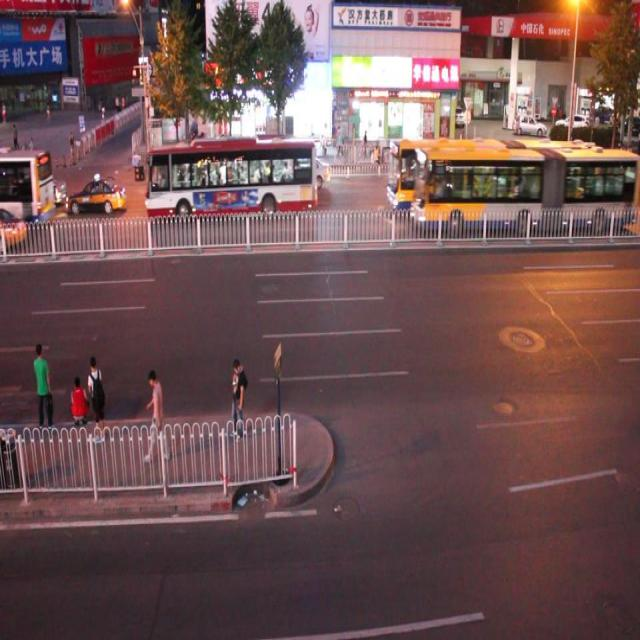car: (588, 160, 640, 205), (68, 178, 126, 216), (183, 156, 224, 202), (284, 156, 329, 191), (20, 175, 65, 208), (1, 204, 28, 249), (1, 164, 11, 199)
van: (409, 145, 640, 230), (386, 135, 598, 211), (144, 137, 316, 219), (1, 146, 55, 223)
